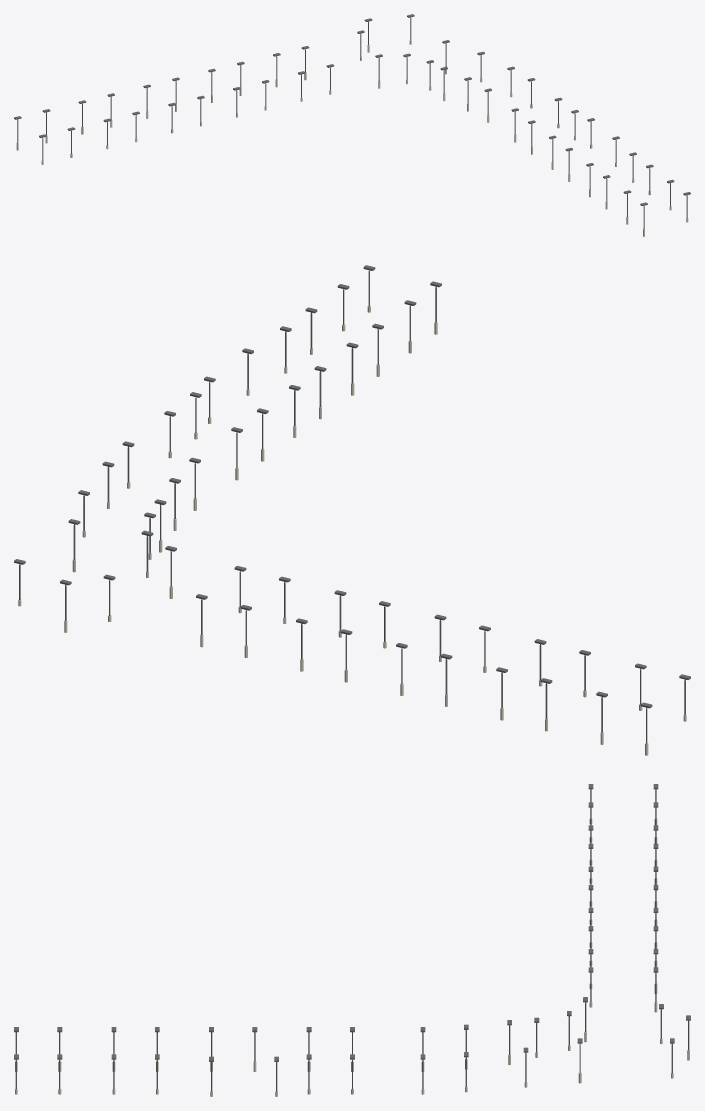
3 views of the same model, one above another, from view 1: azimuth 30°, elevation 25°; view 2: azimuth 150°, elevation 25°; view 3: azimuth 270°, elevation 25° (orthographic). The views are drawn at different scales.
Visible parts, largest first — view 1: buildings_s_-11_-2_Dark_Metal, buildings_s_-11_-2_Warm_Limestone; view 2: buildings_s_-11_-2_Dark_Metal, buildings_s_-11_-2_Warm_Limestone; view 3: buildings_s_-11_-2_Dark_Metal, buildings_s_-11_-2_Warm_Limestone.
Boxes of the visible parts, x1,y1,x2,y2 form: buildings_s_-11_-2_Dark_Metal: [14, 14, 690, 228]; buildings_s_-11_-2_Warm_Limestone: [16, 40, 688, 236]; buildings_s_-11_-2_Dark_Metal: [14, 265, 690, 743]; buildings_s_-11_-2_Warm_Limestone: [18, 305, 686, 755]; buildings_s_-11_-2_Dark_Metal: [14, 784, 690, 1091]; buildings_s_-11_-2_Warm_Limestone: [15, 818, 689, 1096].
Size of the model in its own units: 121 by 8.68 by 125.
